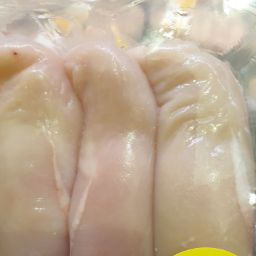Chicken breast: (134, 13, 256, 256), (46, 29, 156, 256), (1, 23, 83, 256)
